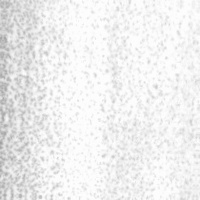pitted_surface: (0, 1, 117, 200), (123, 0, 200, 199)
